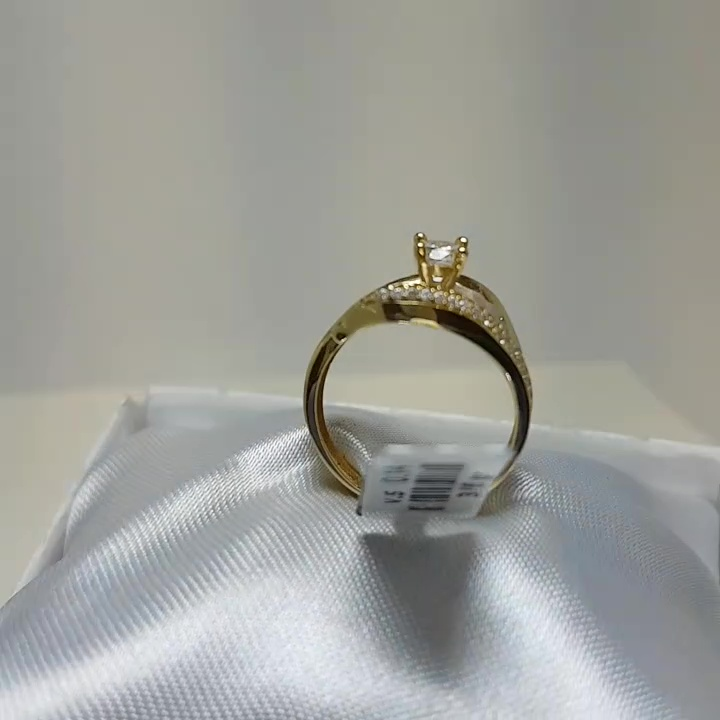Ring 6: (263, 225, 542, 527)
